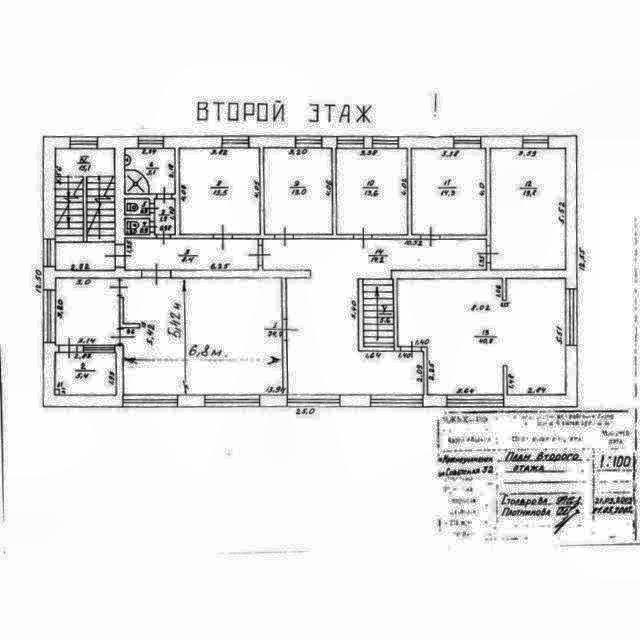room: (263, 240, 486, 395), (397, 279, 565, 395), (120, 279, 282, 395), (491, 149, 566, 270), (56, 149, 115, 271), (179, 149, 260, 234), (412, 149, 486, 235), (337, 149, 407, 235), (264, 148, 332, 234), (125, 239, 259, 270), (56, 279, 119, 344), (55, 353, 115, 395), (125, 148, 174, 194), (155, 199, 175, 234), (125, 199, 149, 214), (125, 219, 149, 234)
